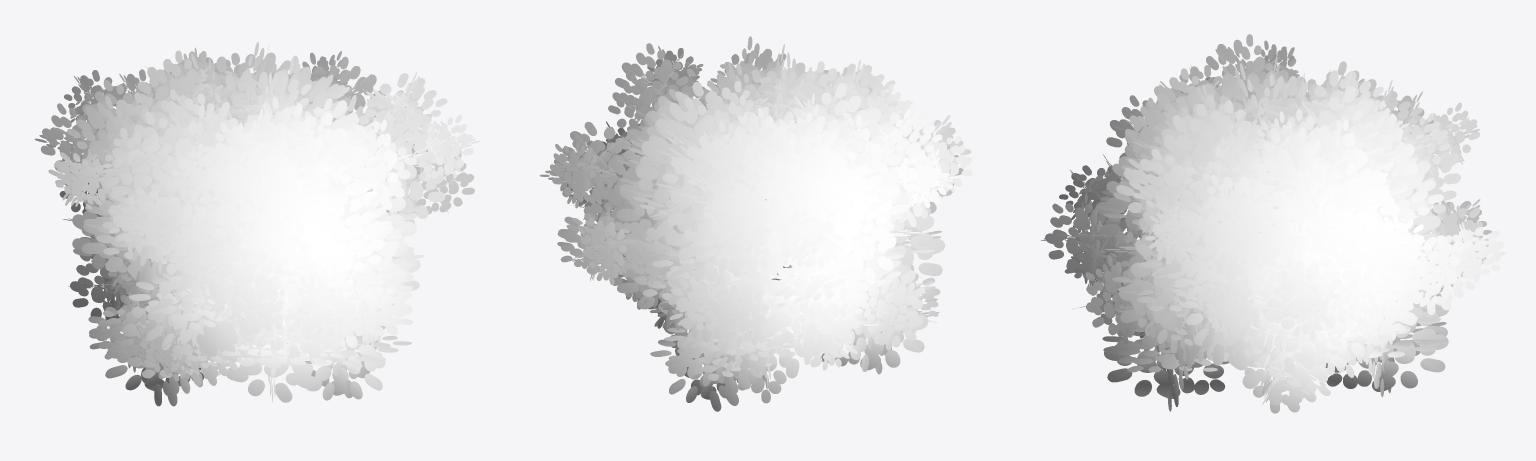
Rendered from Bush_Common.glb.
3 views of the same model, side by side, from view 1: azimuth 30°, elevation 25°; view 2: azimuth 150°, elevation 25°; view 3: azimuth 270°, elevation 25° (orthographic). The views are drawn at different scales.
Visible parts, largest first — view 1: Bush_Common; view 2: Bush_Common; view 3: Bush_Common.
Boxes of the visible parts, box(x1,y1,x2,y2) form: Bush_Common: box(34, 42, 479, 406); Bush_Common: box(539, 36, 974, 411); Bush_Common: box(1041, 34, 1505, 413).
Size of what is drawn, in the model's own units: 1.91 by 1.58 by 1.97.
1 material, 1 textured.
